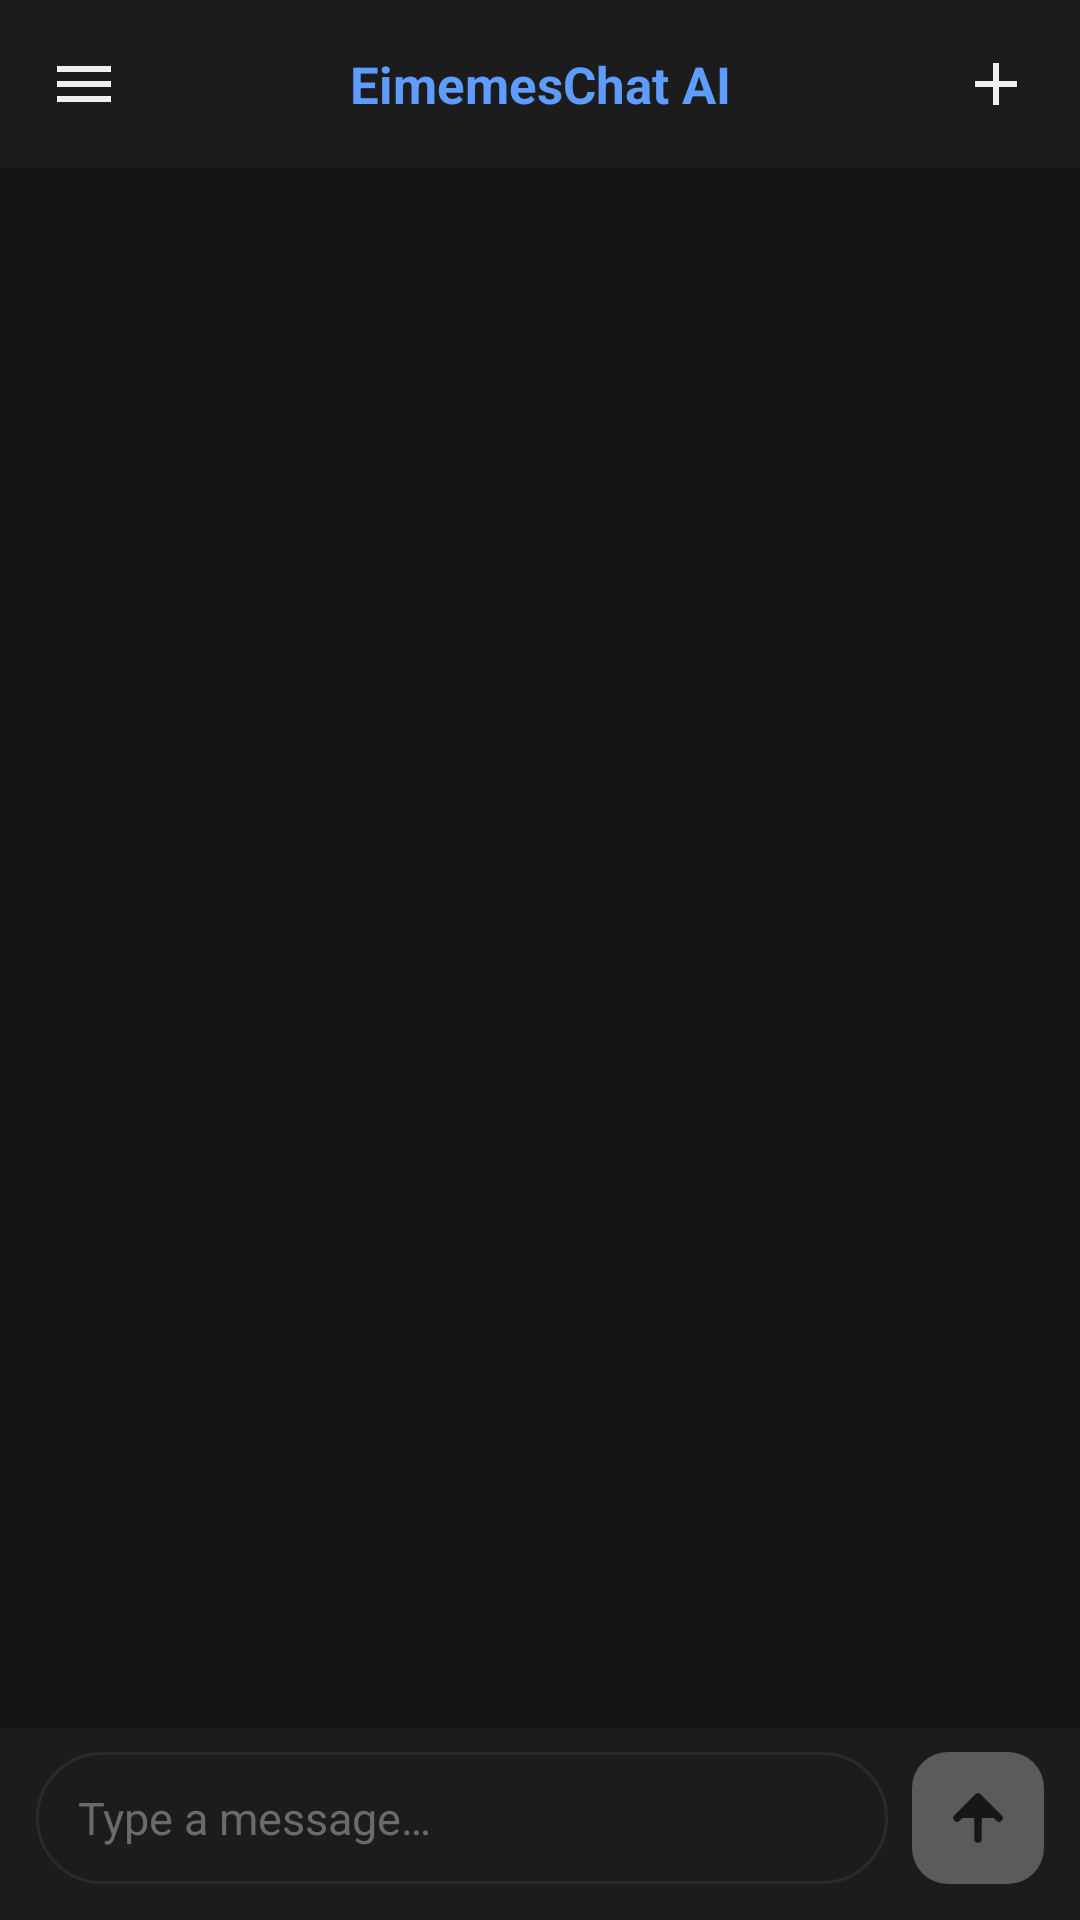

Icon bounding boxes for this 1080x1920 phone screenshot, format (x1, y1, x2, y2):
Menu: (57, 66, 111, 102)
New chat: (975, 63, 1017, 105)
Send: (912, 1752, 1044, 1884)
